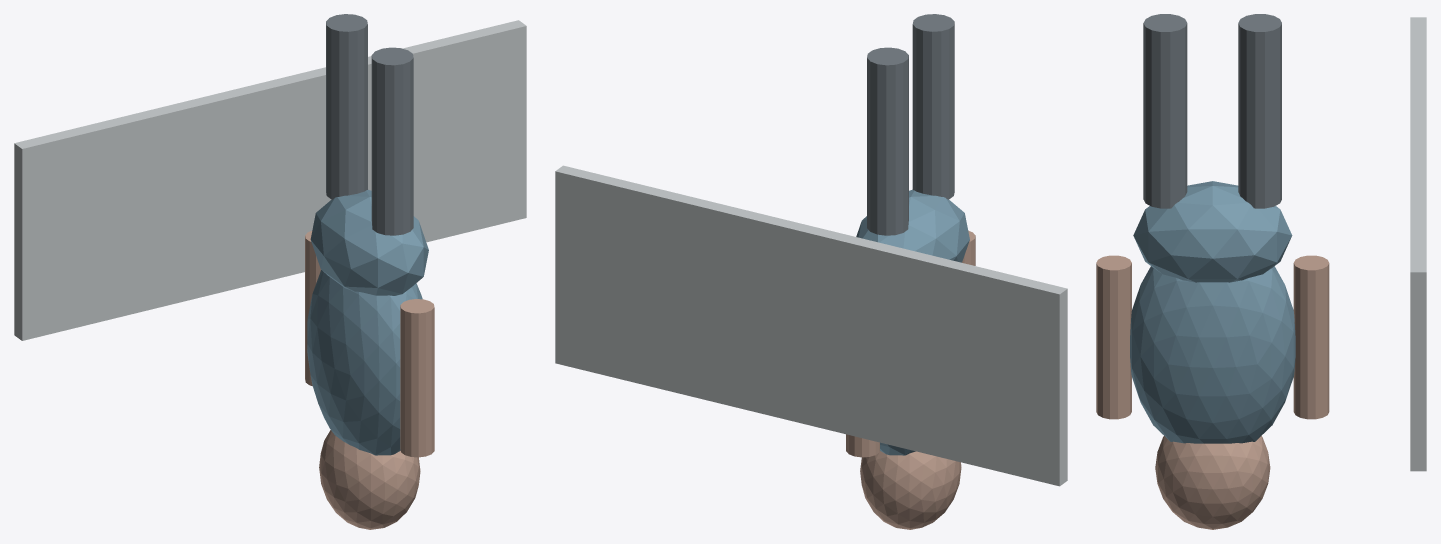
Rendered from lateral-medium.glb.
The picture shows the model from 3 angles, left to right: view 1: azimuth 30°, elevation 25°; view 2: azimuth 150°, elevation 25°; view 3: azimuth 270°, elevation 25°; orthographic projection. The views are drawn at different scales.
Visible parts, largest first — view 1: reference_surface, torso, pelvis, left_leg, right_leg, head, left_arm, right_arm; view 2: reference_surface, right_leg, left_leg, head, pelvis, right_arm; view 3: torso, pelvis, left_leg, head, right_leg, reference_surface, right_arm, left_arm.
Part boxes in pixels (x1,y1,x2,y2): reference_surface: (14,20,526,340); torso: (307,270,422,455); pelvis: (310,189,428,295); left_leg: (371,47,413,235); right_leg: (326,14,367,199); head: (319,430,420,529); left_arm: (400,299,434,457); right_arm: (305,231,320,385); reference_surface: (555,165,1067,486); right_leg: (867,47,908,235); left_leg: (912,14,954,199); head: (860,451,961,529); pelvis: (856,189,969,262); right_arm: (846,434,879,457); torso: (1130,266,1295,443); pelvis: (1133,181,1292,282); left_leg: (1143,14,1187,208); head: (1155,436,1270,529); right_leg: (1238,14,1281,208); reference_surface: (1410,17,1426,471); right_arm: (1293,255,1329,419); left_arm: (1096,255,1131,419).
Size of the model in its own units: 4.4 by 4.05 by 2.41.
